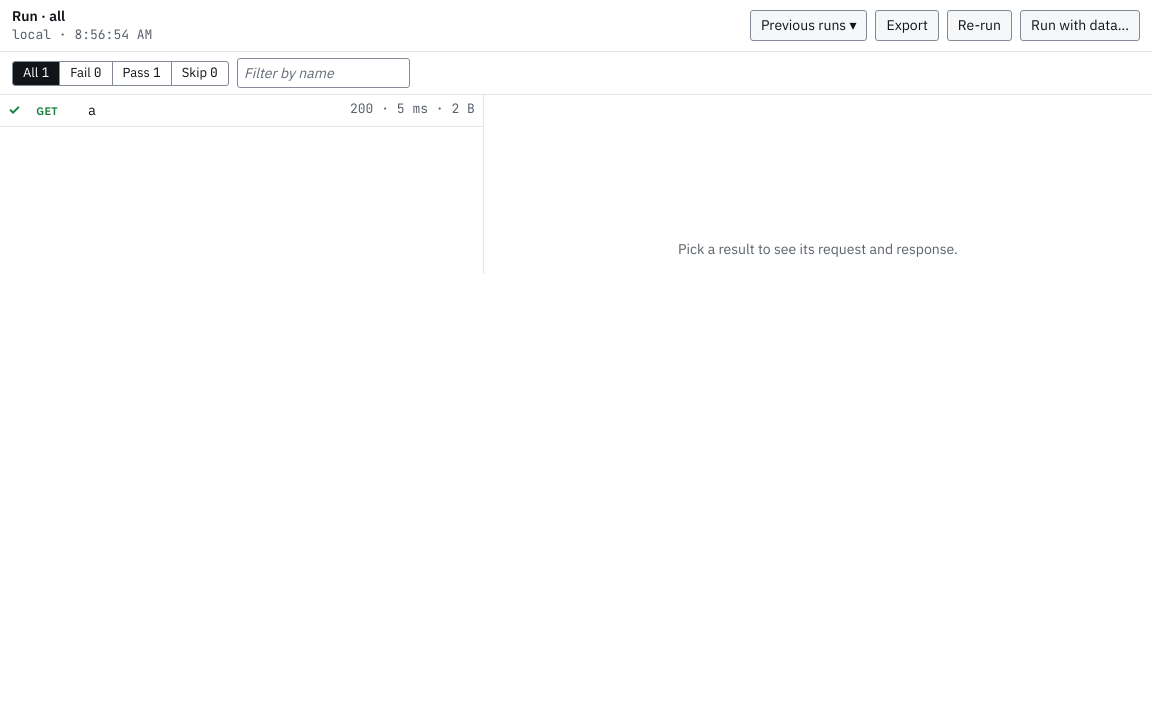
Test: Run with data › opens from the run tab header
This screenshot has width=1152, height=720.
Click the button "Run with data…".
click(1080, 26)  # box [1020,10,1140,41]
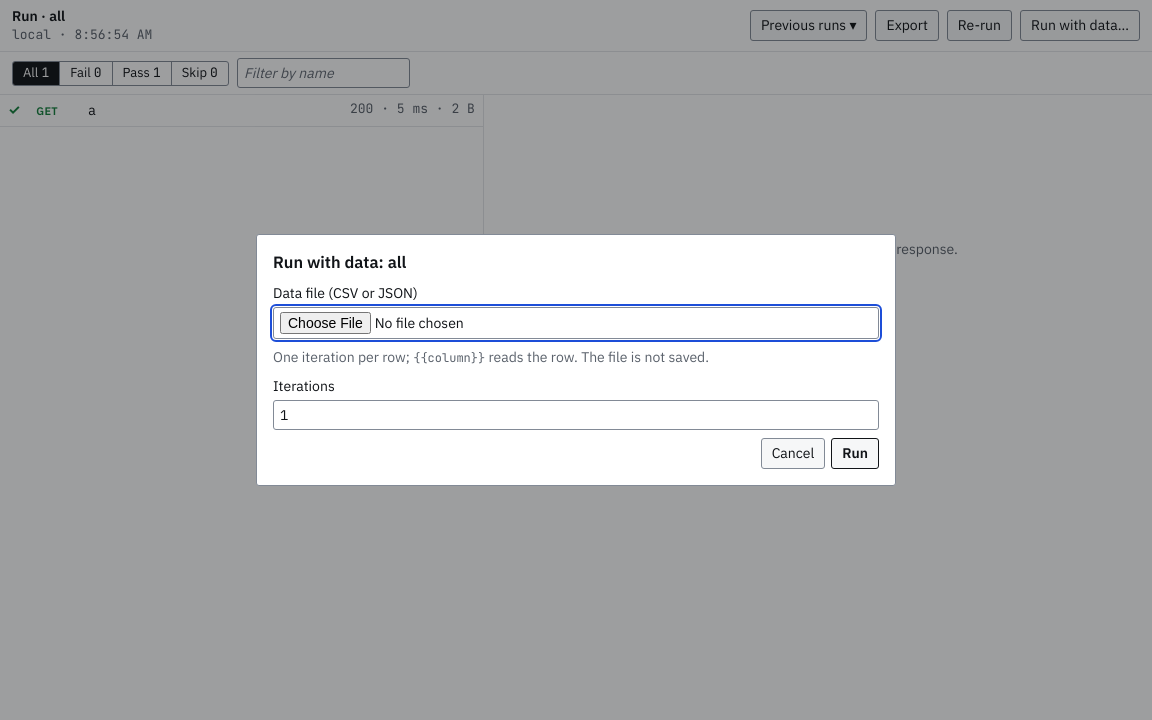
Expected: the dialog "Run with data" is shown, [256,234,896,486]
